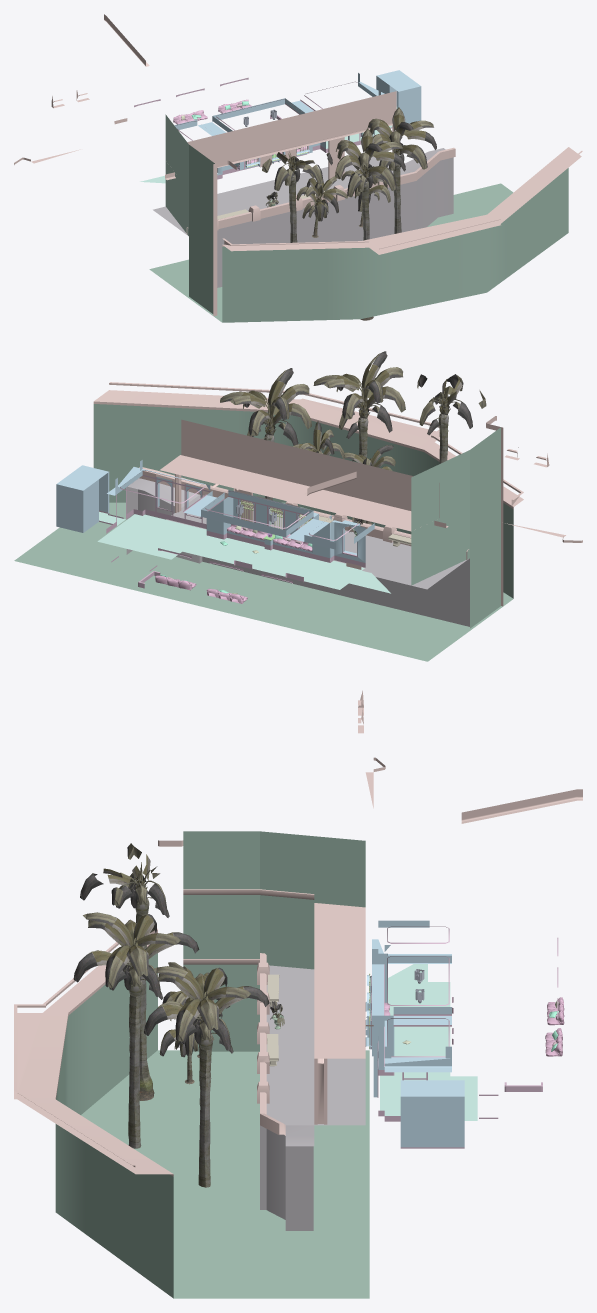
File: Mirage.fbx
The picture shows the model from 3 angles, top to bottom: view 1: azimuth 30°, elevation 25°; view 2: azimuth 150°, elevation 25°; view 3: azimuth 270°, elevation 25°; orthographic projection. The views are drawn at different scales.
Parts seen in each view (by area): view 1: node000_world_lr0_agg35_23_de_mirage_brick_ver2_blend_updat., node000_world_lr0_agg44_231_marble_01.203, node000_world_lr0_agg23_278_sitebwall13a.011, node000_world_lr0_agg242_19_urban_trees_branches03_medium_a, node000_world_lr0_agg23_278_sitebwall13a.123, node000_world_lr0_agg238_18_urban_palm_trunkdust_animated.01, node000_world_lr0_agg7_36_hpe_plaster_tan_wall.011, node000_world_lr0_agg7_36_hpe_plaster_tan_wall.013, node000_world_lr0_agg123_4_couch_a_diffuse.001; view 2: node000_world_lr0_agg35_23_de_mirage_brick_ver2_blend_updat., node000_world_lr0_agg23_278_sitebwall13a.011, node000_world_lr0_agg44_231_marble_01.203, node000_world_lr0_agg242_19_urban_trees_branches03_medium_a, node000_world_lr0_agg23_278_sitebwall13a.123, node000_world_lr0_agg7_36_hpe_plaster_tan_wall.011, node000_world_lr0_agg200_11_tile_mall_floor00.009, node000_world_lr0_agg7_36_hpe_plaster_tan_wall.013, node000_world_lr0_agg200_11_tile_mall_floor00.007, node000_world_lr0_agg200_11_tile_mall_floor00.002, node000_world_lr0_agg238_18_urban_palm_trunkdust_animated.01, node000_world_lr0_agg15_28_dusandwlltrim3.014 (+6 smaller); view 3: node000_world_lr0_agg35_23_de_mirage_brick_ver2_blend_updat., node000_world_lr0_agg44_231_marble_01.203, node000_world_lr0_agg23_278_sitebwall13a.011, node000_world_lr0_agg242_19_urban_trees_branches03_medium_a, node000_world_lr0_agg23_278_sitebwall13a.123, node000_world_lr0_agg238_18_urban_palm_trunkdust_animated.01, node000_world_lr0_agg7_36_hpe_plaster_tan_wall.011, node000_world_lr0_agg7_36_hpe_plaster_tan_wall.013, node000_world_lr0_agg200_11_tile_mall_floor00.009, node000_world_lr0_agg200_11_tile_mall_floor00.002, node000_world_lr0_agg200_11_tile_mall_floor00.007, node000_world_lr0_agg7_36_hpe_plaster_tan_wall.032 (+3 smaller).
Part boxes in pixels (left/top/right/bottom): node000_world_lr0_agg35_23_de_mirage_brick_ver2_blend_updat.: left=149, top=114, right=568, bottom=322; node000_world_lr0_agg44_231_marble_01.203: left=153, top=148, right=453, bottom=287; node000_world_lr0_agg23_278_sitebwall13a.011: left=104, top=14, right=455, bottom=234; node000_world_lr0_agg242_19_urban_trees_branches03_medium_a: left=262, top=107, right=436, bottom=221; node000_world_lr0_agg23_278_sitebwall13a.123: left=14, top=90, right=582, bottom=316; node000_world_lr0_agg238_18_urban_palm_trunkdust_animated.01: left=281, top=113, right=432, bottom=320; node000_world_lr0_agg7_36_hpe_plaster_tan_wall.011: left=217, top=70, right=421, bottom=175; node000_world_lr0_agg7_36_hpe_plaster_tan_wall.013: left=174, top=98, right=313, bottom=135; node000_world_lr0_agg123_4_couch_a_diffuse.001: left=173, top=99, right=306, bottom=169; node000_world_lr0_agg35_23_de_mirage_brick_ver2_blend_updat.: left=14, top=404, right=513, bottom=661; node000_world_lr0_agg23_278_sitebwall13a.011: left=139, top=419, right=468, bottom=559; node000_world_lr0_agg44_231_marble_01.203: left=126, top=478, right=469, bottom=626; node000_world_lr0_agg242_19_urban_trees_branches03_medium_a: left=220, top=351, right=486, bottom=470; node000_world_lr0_agg23_278_sitebwall13a.123: left=93, top=382, right=582, bottom=606; node000_world_lr0_agg7_36_hpe_plaster_tan_wall.011: left=56, top=465, right=365, bottom=562; node000_world_lr0_agg200_11_tile_mall_floor00.009: left=97, top=511, right=206, bottom=559; node000_world_lr0_agg7_36_hpe_plaster_tan_wall.013: left=184, top=484, right=374, bottom=549; node000_world_lr0_agg200_11_tile_mall_floor00.007: left=202, top=535, right=348, bottom=588; node000_world_lr0_agg200_11_tile_mall_floor00.002: left=250, top=560, right=390, bottom=593; node000_world_lr0_agg238_18_urban_palm_trunkdust_animated.01: left=223, top=368, right=463, bottom=522; node000_world_lr0_agg15_28_dusandwlltrim3.014: left=120, top=470, right=358, bottom=581; node000_world_lr0_agg35_23_de_mirage_brick_ver2_blend_updat.: left=55, top=831, right=369, bottom=1298; node000_world_lr0_agg44_231_marble_01.203: left=260, top=965, right=365, bottom=1230; node000_world_lr0_agg23_278_sitebwall13a.011: left=183, top=789, right=582, bottom=1135; node000_world_lr0_agg242_19_urban_trees_branches03_medium_a: left=73, top=843, right=269, bottom=1057; node000_world_lr0_agg23_278_sitebwall13a.123: left=14, top=690, right=385, bottom=1176; node000_world_lr0_agg238_18_urban_palm_trunkdust_animated.01: left=88, top=862, right=249, bottom=1187; node000_world_lr0_agg7_36_hpe_plaster_tan_wall.011: left=372, top=939, right=464, bottom=1147; node000_world_lr0_agg7_36_hpe_plaster_tan_wall.013: left=372, top=920, right=451, bottom=1024; node000_world_lr0_agg200_11_tile_mall_floor00.009: left=380, top=1072, right=477, bottom=1120; node000_world_lr0_agg200_11_tile_mall_floor00.002: left=388, top=964, right=450, bottom=1044; node000_world_lr0_agg200_11_tile_mall_floor00.007: left=389, top=982, right=450, bottom=1075; node000_world_lr0_agg7_36_hpe_plaster_tan_wall.032: left=378, top=1015, right=451, bottom=1072.
Size of the model in its own units: 51.56 by 36.17 by 23.57.
Materials: 20 (4 with a texture image).
